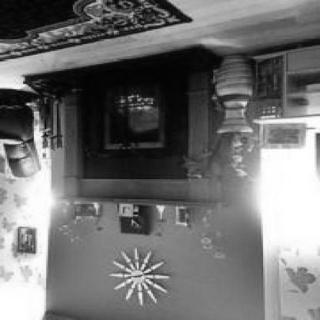Fire: (99, 90, 168, 142)
other: (246, 148, 316, 250)
